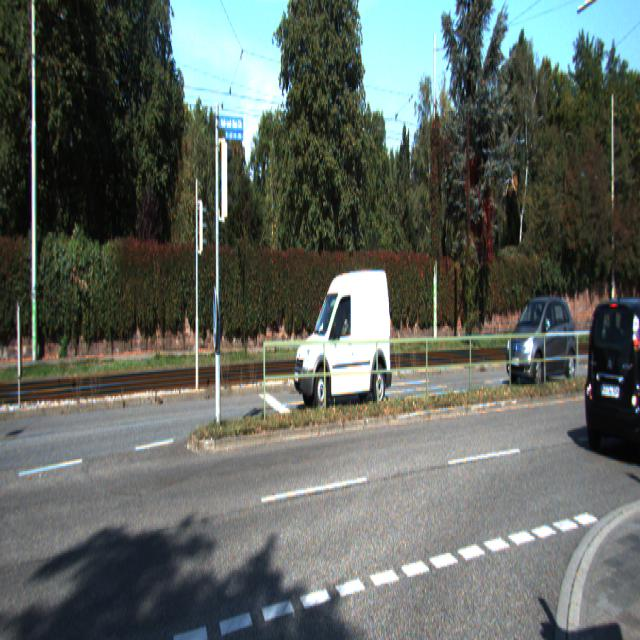Car: (294, 261, 394, 418), (584, 289, 640, 467), (507, 291, 578, 387)
